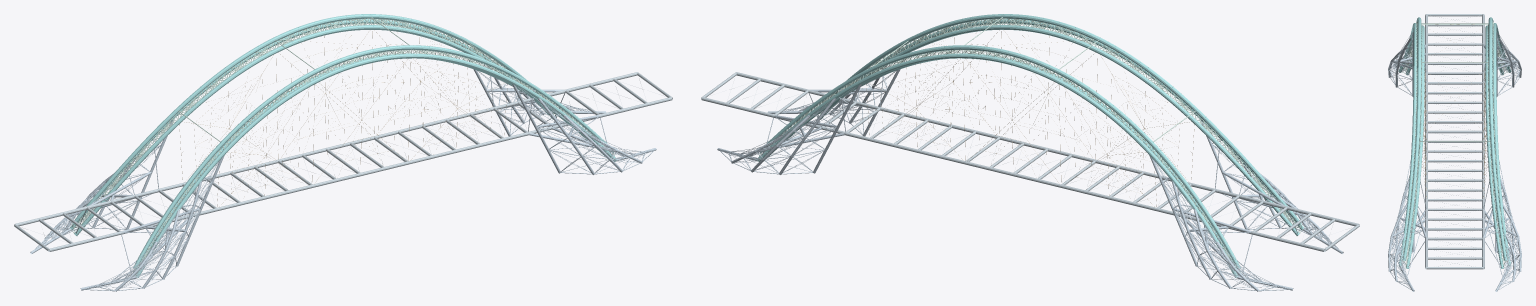
The picture shows the model from 3 angles, left to right: view 1: azimuth 30°, elevation 25°; view 2: azimuth 150°, elevation 25°; view 3: azimuth 270°, elevation 25°; orthographic projection. The views are drawn at different scales.
Parts seen in each view (by area): view 1: Structural_primary_arch, Structural_end_support, Structural_deck_system, Structural_arch_internal, Structural_cable_web; view 2: Structural_primary_arch, Structural_end_support, Structural_deck_system, Structural_arch_internal, Structural_cable_web; view 3: Structural_deck_system, Structural_primary_arch, Structural_end_support, Structural_arch_internal, Structural_cable_web.
Boxes of the visible parts, left/top/right/bottom form: Structural_primary_arch: left=70, top=14, right=617, bottom=277; Structural_end_support: left=30, top=60, right=656, bottom=291; Structural_deck_system: left=14, top=72, right=672, bottom=251; Structural_arch_internal: left=71, top=17, right=614, bottom=274; Structural_cable_web: left=179, top=23, right=507, bottom=206; Structural_primary_arch: left=756, top=14, right=1303, bottom=277; Structural_end_support: left=717, top=60, right=1343, bottom=291; Structural_deck_system: left=701, top=72, right=1359, bottom=251; Structural_arch_internal: left=759, top=17, right=1302, bottom=274; Structural_cable_web: left=866, top=23, right=1194, bottom=206; Structural_deck_system: left=1425, top=14, right=1484, bottom=269; Structural_primary_arch: left=1398, top=17, right=1511, bottom=268; Structural_end_support: left=1388, top=32, right=1521, bottom=291; Structural_arch_internal: left=1401, top=21, right=1508, bottom=268; Structural_cable_web: left=1422, top=24, right=1487, bottom=198.
Bounding box in the file's own units: 157 × 39.93 × 34.9.
